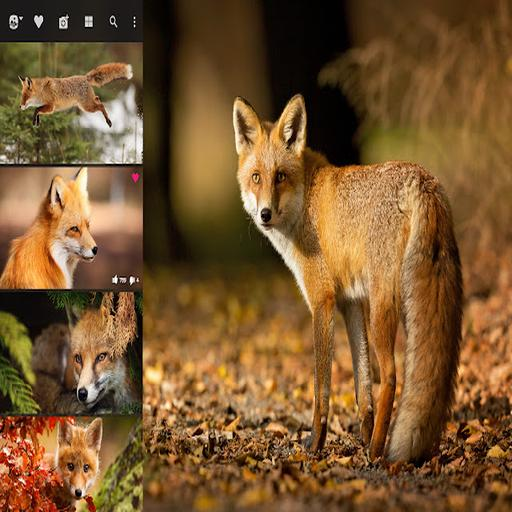Fox: (235, 98, 465, 476), (18, 290, 145, 410), (0, 163, 106, 289), (8, 54, 138, 128), (52, 408, 138, 509)
